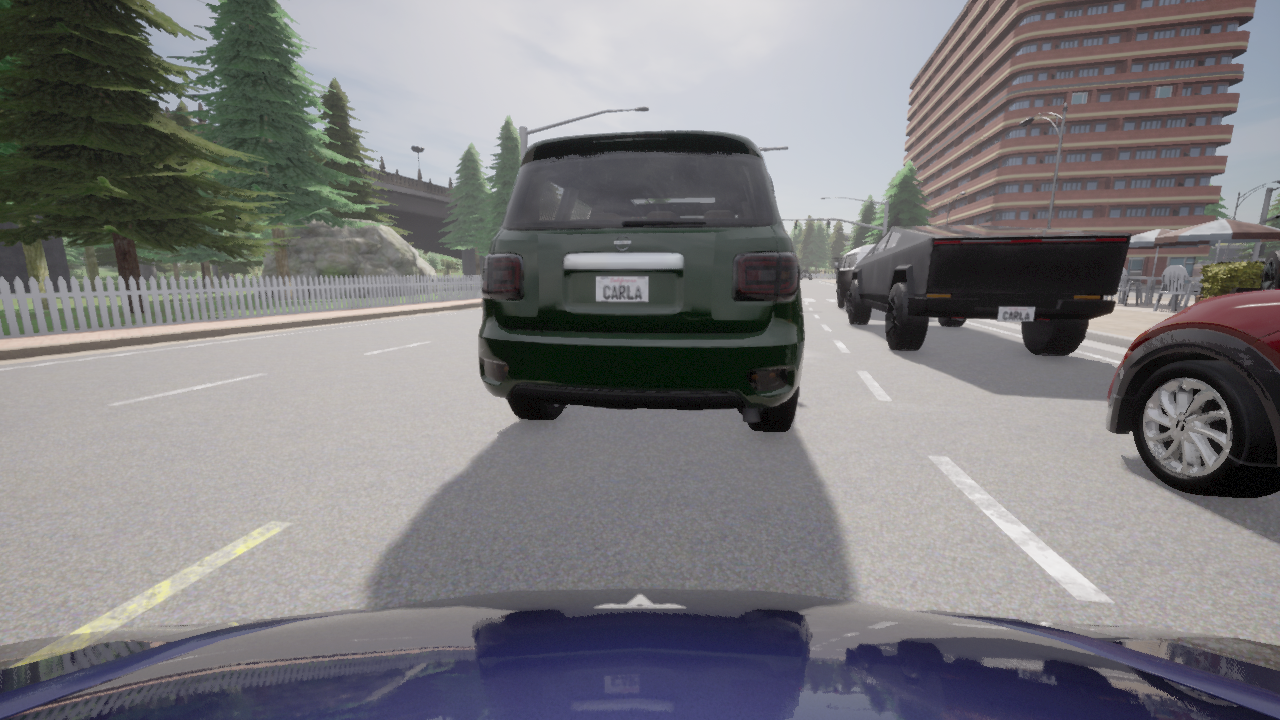cyclist: (0, 588, 1279, 719), (478, 131, 804, 432), (848, 225, 1131, 356), (1105, 289, 1279, 498), (833, 246, 873, 312), (1229, 250, 1279, 293), (801, 269, 812, 280)
